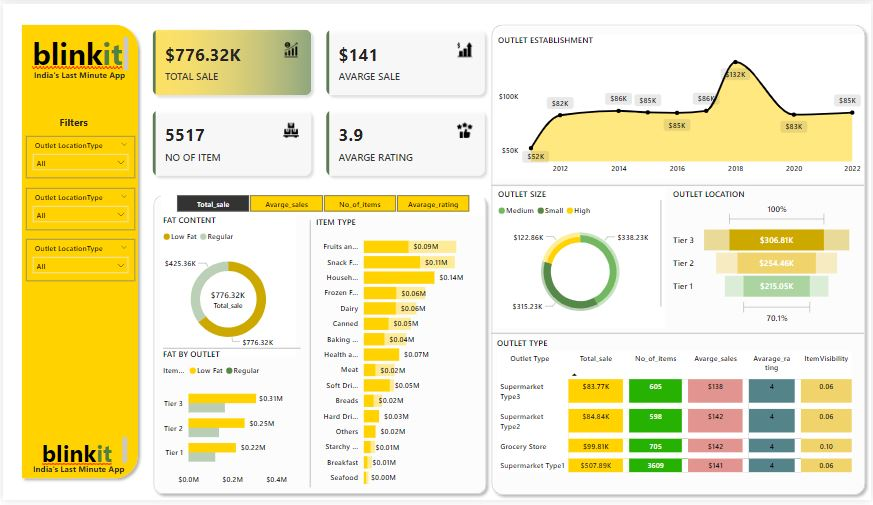

This screenshot's page, from the dashboard's own definition file:
{"tool":"powerbi","page":{"name":"Blinkit_Dashboard","canvas":[1400,800],"ordinal":0},"visuals":[{"type":"shape","box":[21.4,24.3,205.7,750],"z":0},{"type":"textbox","box":[40,45.7,167.1,68.6],"z":1000},{"type":"textbox","box":[35.7,100,175.7,31.4],"z":2000},{"type":"cardVisual","fields":{"Data":["BlinkIT Grocery Data.Total_sale","BlinkIT Grocery Data.Avarge_sales","BlinkIT Grocery Data.No_of_items","BlinkIT Grocery Data.Avarage_rating"]},"box":[224.3,24.3,570,270],"z":3000},{"type":"shape","box":[233.1,300.8,554.3,499.2],"z":4000},{"type":"donutChart","title":"FAT CONTENT","fields":{"Y":["BlinkIT Grocery Data.Total_sale"],"Category":["BlinkIT Grocery Data.Item Fat Content"]},"box":[253.5,338.6,220.5,229.9],"z":5000},{"type":"slicer","fields":{"Values":["Metrics.Metrics"]},"box":[255.1,302.4,521.3,39.4],"z":6000},{"type":"cardVisual","fields":{"Data":["BlinkIT Grocery Data.Total_sale"]},"box":[305.5,433.1,116.5,85],"z":7000},{"type":"clusteredBarChart","title":"FAT BY OUTLET","fields":{"Y":["BlinkIT Grocery Data.Total_sale"],"Category":["BlinkIT Grocery Data.Outlet Location Type"],"Series":["BlinkIT Grocery Data.Item Fat Content"]},"box":[253.5,554.3,220.5,229.9],"z":8000},{"type":"shape","box":[258.3,541.7,222,26.8],"z":9000},{"type":"shape","box":[480.3,348,29.9,431.5],"z":10000},{"type":"barChart","title":"ITEM TYPE","fields":{"Y":["BlinkIT Grocery Data.Total_sale"],"Category":["BlinkIT Grocery Data.Item Type"]},"box":[499.2,341.7,277.2,447.2],"z":11000},{"type":"shape","box":[779.5,23.6,620.5,776.4],"z":12000},{"type":"lineChart","title":"OUTLET ESTABLISHMENT","fields":{"Category":["BlinkIT Grocery Data.Outlet Establishment Year"],"Y":["BlinkIT Grocery Data.Total_sale"]},"box":[793.7,48.8,595.3,234.6],"z":13000},{"type":"shape","box":[787.4,278.7,601.6,26.8],"z":14000},{"type":"donutChart","title":"OUTLET SIZE","fields":{"Y":["BlinkIT Grocery Data.Total_sale"],"Category":["BlinkIT Grocery Data.Outlet Size"]},"box":[793.7,297.2,275,225],"z":15000},{"type":"shape","box":[1053.5,316.5,15.7,171.7],"z":16000},{"type":"funnel","title":"OUTLET LOCATION","fields":{"Y":["BlinkIT Grocery Data.Total_sale"],"Category":["BlinkIT Grocery Data.Outlet Location Type"]},"box":[1075.6,297.2,299.2,225.2],"z":17000},{"type":"shape","box":[787.4,518.1,601.6,26.8],"z":18000},{"type":"pivotTable","title":"OUTLET TYPE","fields":{"Rows":["BlinkIT Grocery Data.Outlet Type"],"Values":["BlinkIT Grocery Data.Total_sale","BlinkIT Grocery Data.No_of_items","BlinkIT Grocery Data.Avarge_sales","BlinkIT Grocery Data.Avarage_rating","Avg(BlinkIT Grocery Data.Item Visibility)"]},"box":[792.1,537,592.1,242.5],"z":19000},{"type":"slicer","fields":{"Values":["BlinkIT Grocery Data.Outlet Location Type"]},"box":[37.8,213.3,176.4,67.7],"z":19001},{"type":"slicer","fields":{"Values":["BlinkIT Grocery Data.Outlet Size"]},"box":[37.8,296.7,176.4,67.7],"z":19002},{"type":"slicer","fields":{"Values":["BlinkIT Grocery Data.Item Type"]},"box":[37.8,378.6,176.4,67.7],"z":19003},{"type":"textbox","box":[80.3,174.8,66.1,37.8],"z":19004},{"type":"textbox","box":[40.9,692.9,165.4,55.1],"z":19005},{"type":"textbox","box":[33.1,735.4,176.4,31.5],"z":19006}]}

Visuals, with their boxes in screenshot pixels (x1, y1, x2, y2), scaled from the page's 1400x800 canvas onto the 873x505 screenshot:
shape: 13, 15, 142, 489
textbox: 25, 29, 129, 72
textbox: 22, 63, 132, 83
cardVisual - BlinkIT Grocery Data.Total_sale x BlinkIT Grocery Data.Avarge_sales: 140, 15, 495, 186
shape: 145, 190, 491, 504
"FAT CONTENT" donutChart: 158, 214, 296, 359
slicer - Metrics.Metrics: 159, 191, 484, 216
cardVisual - BlinkIT Grocery Data.Total_sale: 191, 273, 263, 327
"FAT BY OUTLET" clusteredBarChart: 158, 350, 296, 495
shape: 161, 342, 300, 359
shape: 300, 220, 318, 492
"ITEM TYPE" barChart: 311, 216, 484, 498
shape: 486, 15, 872, 504
"OUTLET ESTABLISHMENT" lineChart: 495, 31, 866, 179
shape: 491, 176, 866, 193
"OUTLET SIZE" donutChart: 495, 188, 666, 330
shape: 657, 200, 667, 308
"OUTLET LOCATION" funnel: 671, 188, 857, 330
shape: 491, 327, 866, 344
"OUTLET TYPE" pivotTable: 494, 339, 863, 492
slicer - BlinkIT Grocery Data.Outlet Location Type: 24, 135, 134, 177
slicer - BlinkIT Grocery Data.Outlet Size: 24, 187, 134, 230
slicer - BlinkIT Grocery Data.Item Type: 24, 239, 134, 282
textbox: 50, 110, 91, 134
textbox: 26, 437, 129, 472
textbox: 21, 464, 131, 484
